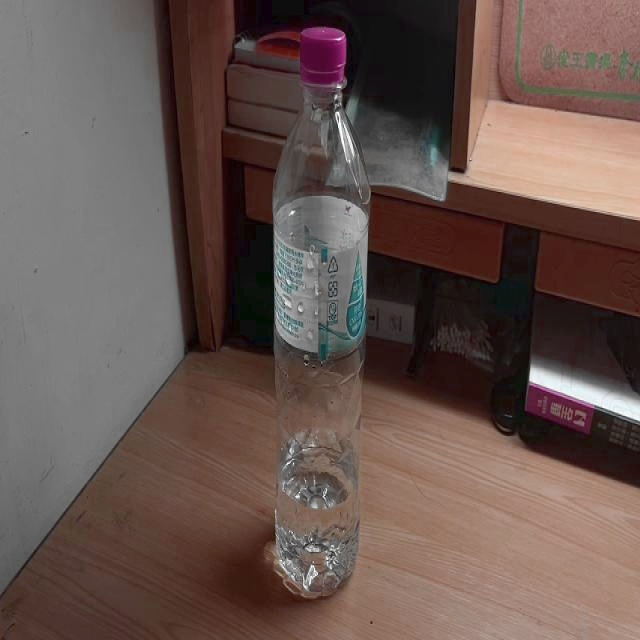Water: (272, 26, 372, 598)
